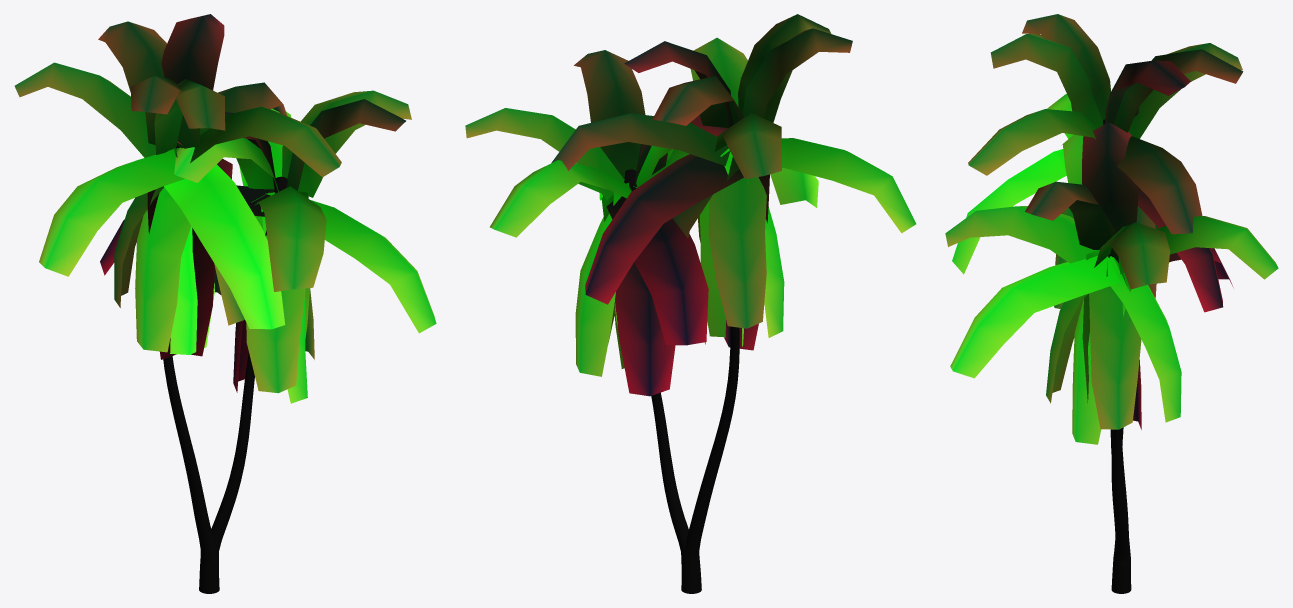
The model's file is SM_Palm6_6.fbx.
3 views of the same model, side by side, from view 1: azimuth 30°, elevation 25°; view 2: azimuth 150°, elevation 25°; view 3: azimuth 270°, elevation 25° (orthographic). The views are drawn at different scales.
Parts seen in each view (by area): view 1: SM_Palm6_6; view 2: SM_Palm6_6; view 3: SM_Palm6_6.
Part boxes in pixels (box(x1,y1,x2,y2)): SM_Palm6_6: box(14, 14, 436, 593); SM_Palm6_6: box(465, 14, 916, 593); SM_Palm6_6: box(945, 14, 1278, 593).
Bounding box in the file's own units: 928 × 1217 × 688.
